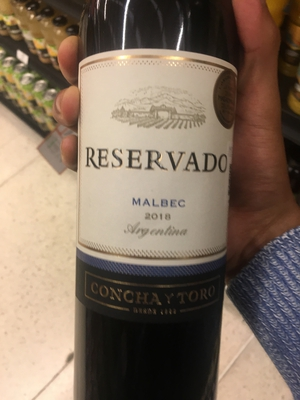reservado malbec: (67, 3, 237, 400)
